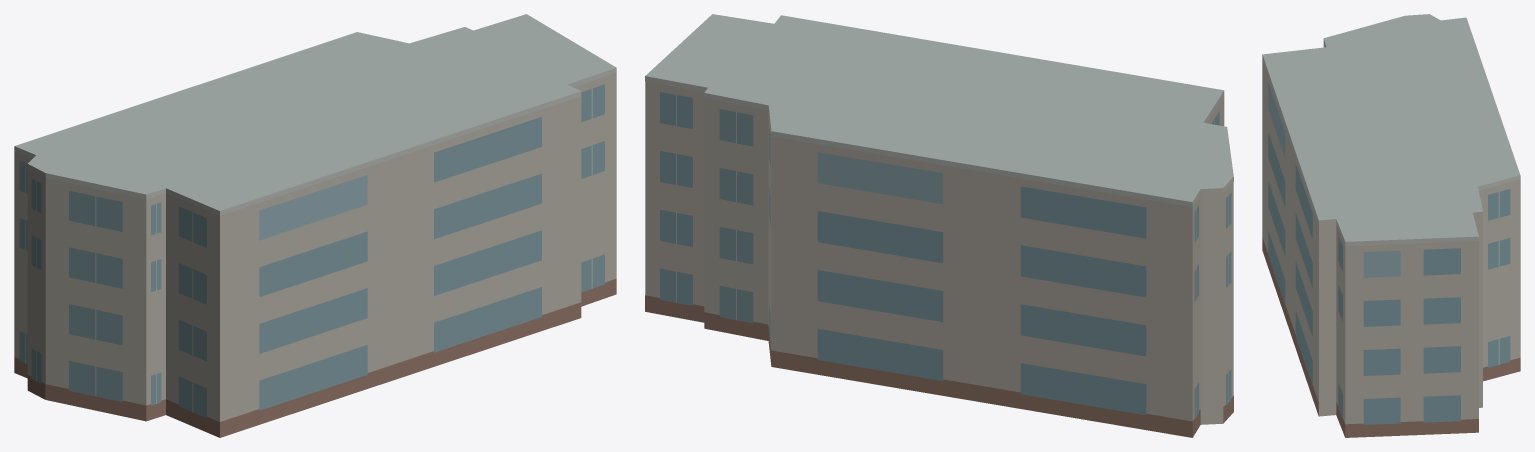
File: survey-upis-32596289.glb
3 renders of one model, left to right at view 1: azimuth 30°, elevation 25°; view 2: azimuth 150°, elevation 25°; view 3: azimuth 270°, elevation 25°, orthographic. The views are drawn at different scales.
Visible parts, largest first — view 1: survey-upis-32596289.tmp; view 2: survey-upis-32596289.tmp; view 3: survey-upis-32596289.tmp.
Part boxes in pixels (x1,y1,x2,y2): survey-upis-32596289.tmp: [14, 14, 616, 437]; survey-upis-32596289.tmp: [645, 14, 1233, 437]; survey-upis-32596289.tmp: [1262, 14, 1520, 437].
Bounding box in the file's own units: 27.93 × 11.2 × 13.37.
